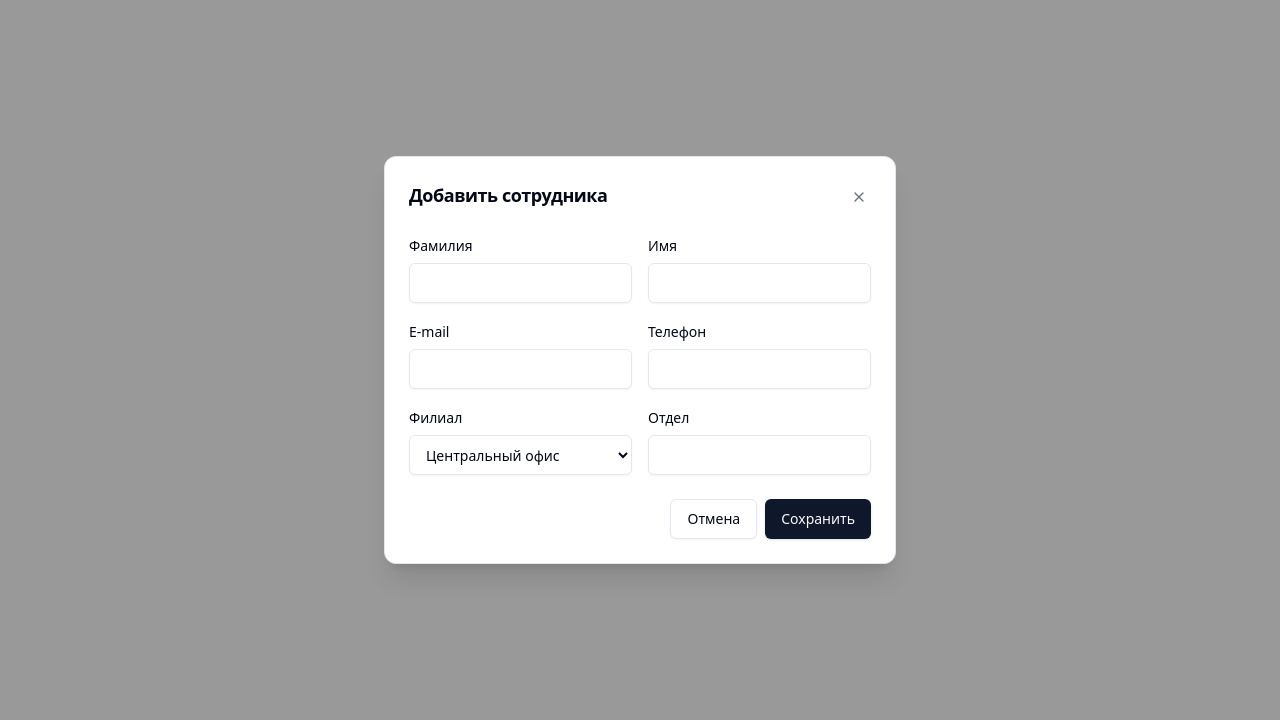
EmployeeFormDialog › surfaces errorRequired when firstName is blank on submit
Note: Fill everything else but leave firstName blank.
Type "Petrov" into the field labelled "Фамилия" at (520, 283), box [409, 263, 632, 303]
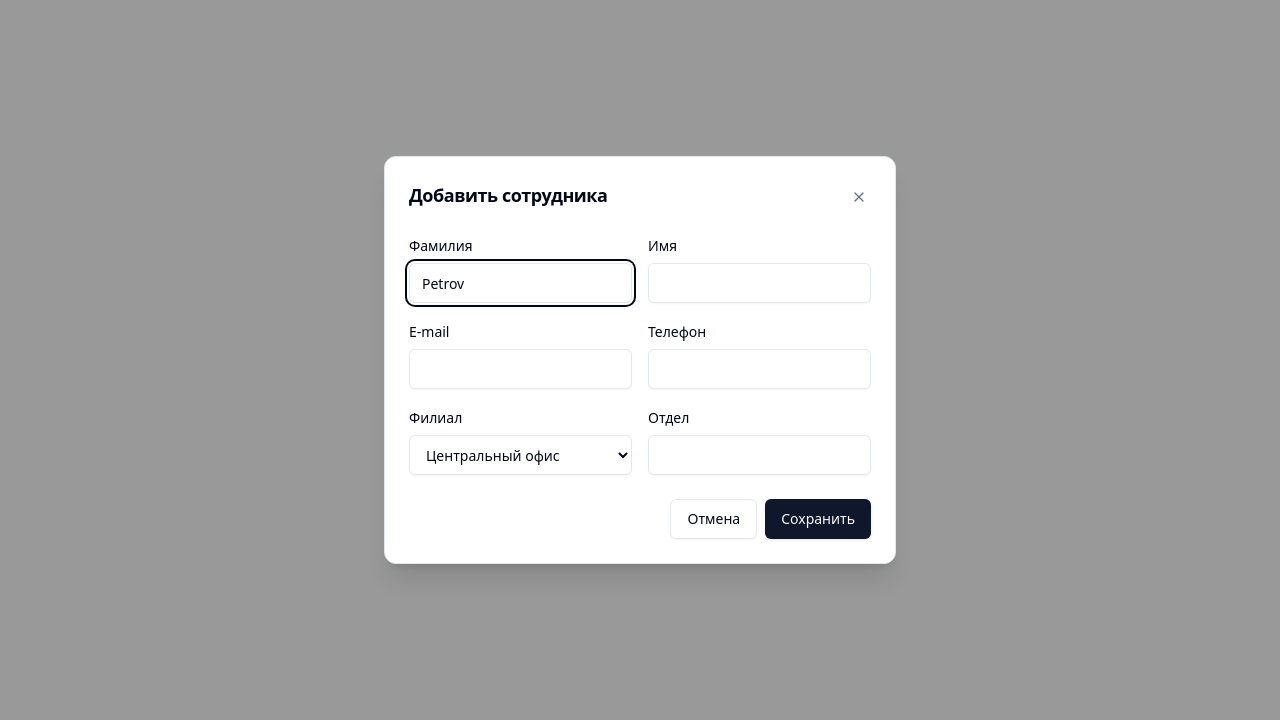
Type "petrov@example.com" into the field labelled "E-mail" at (520, 369), box [409, 349, 632, 389]
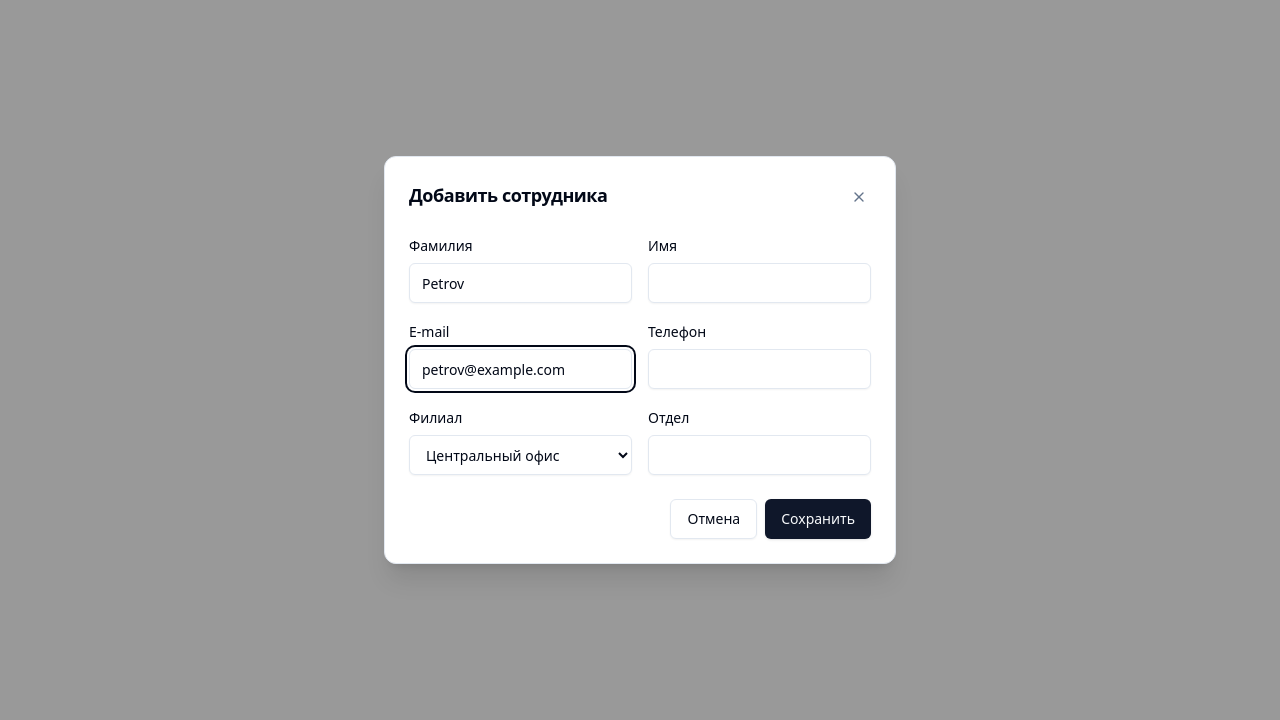
Click the button "Сохранить" at (818, 519), box [765, 499, 871, 539]
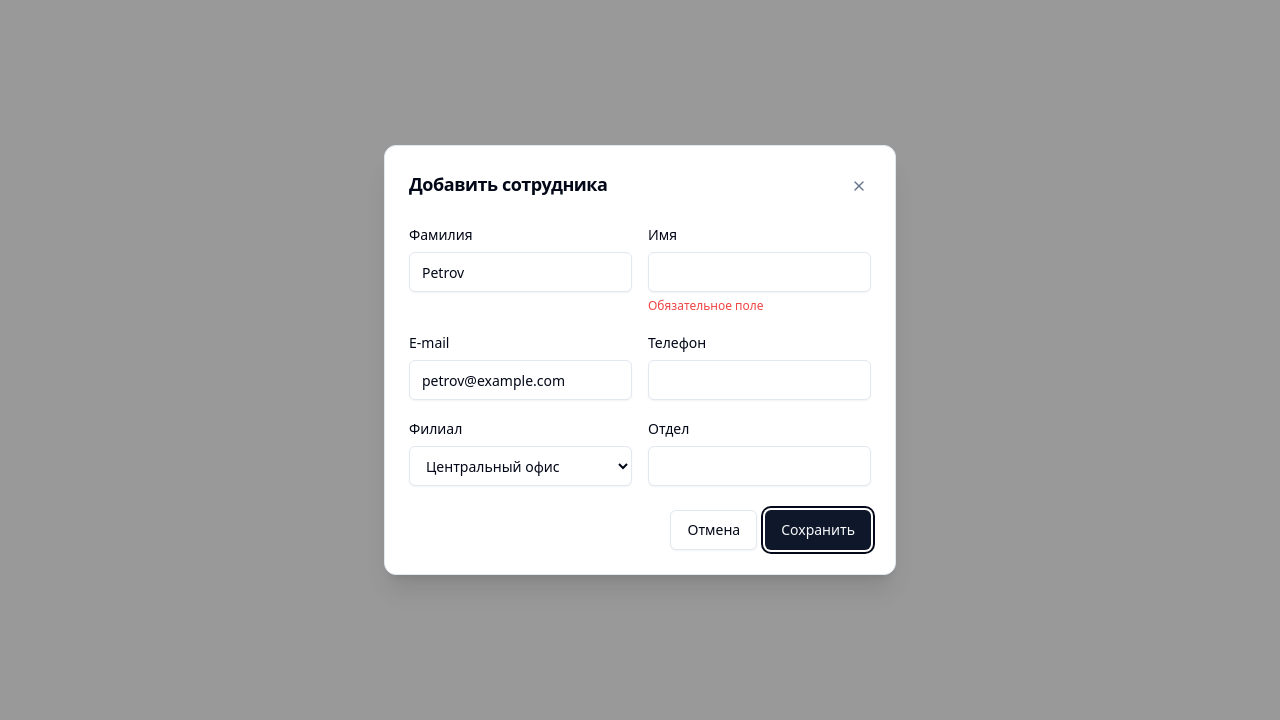
Expected: the text "Обязательное поле" is shown, [648, 297, 764, 314]
